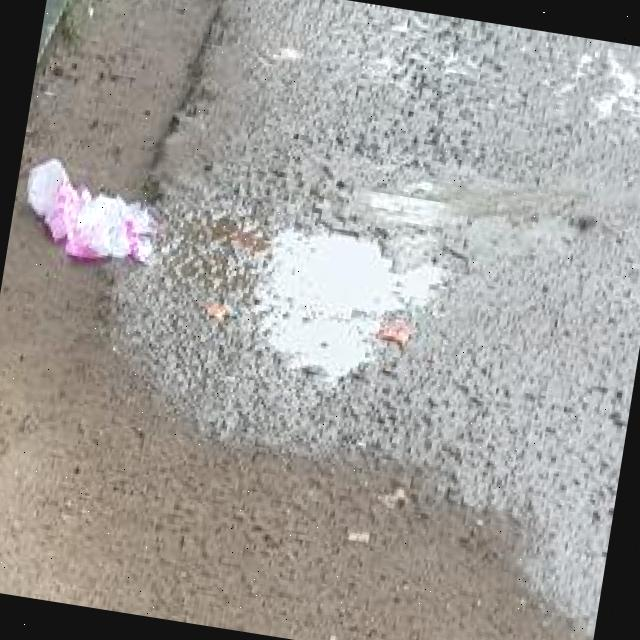stagnation: (231, 188, 468, 415)
